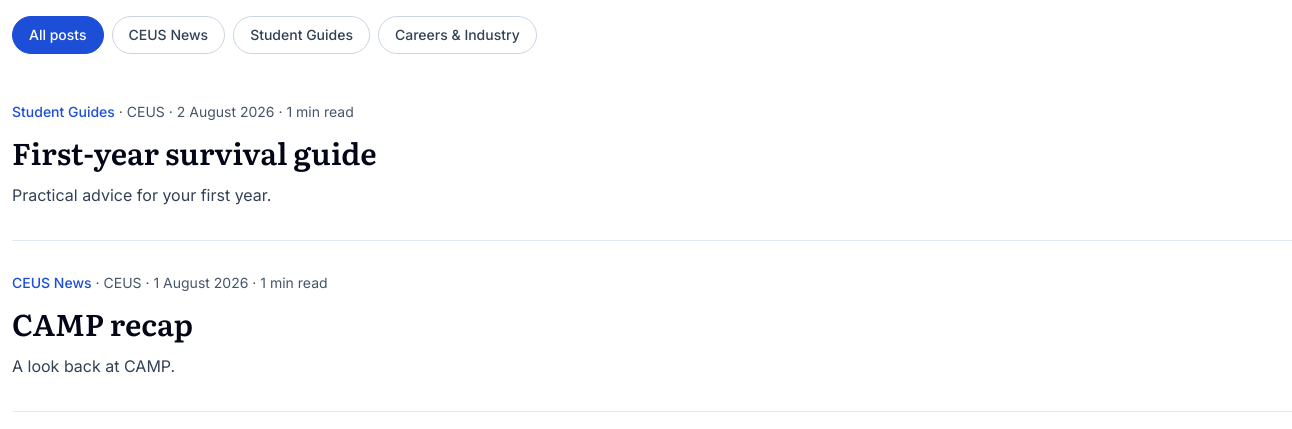
Test: BlogIndexClient › filters the feed without removing the category controls
Click the button "Student Guides". click: (302, 35)
box: [233,16,370,54]
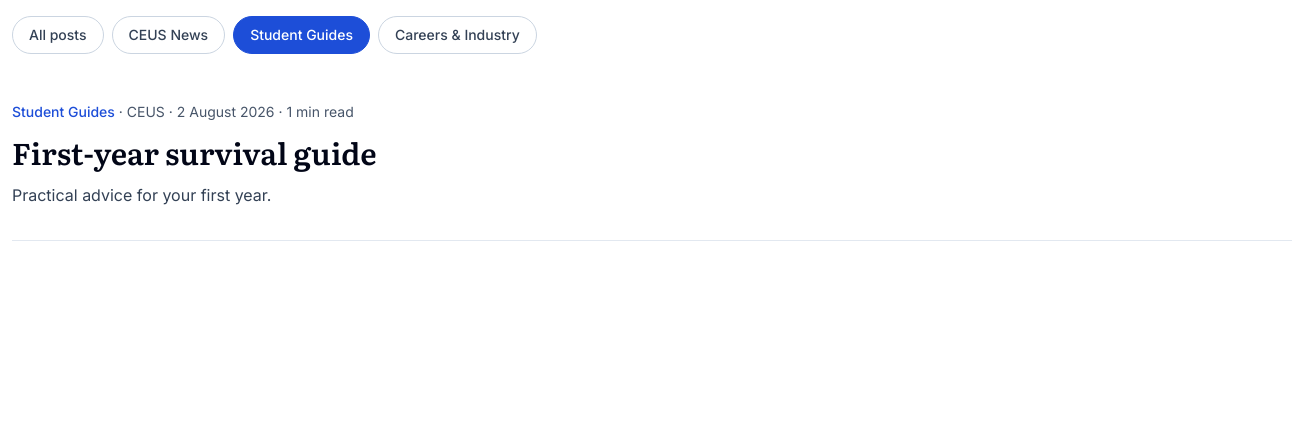
Expected: the link "First-year survival guide" is shown, [12,130,377,174]
Result: the link "CAMP recap" is gone
